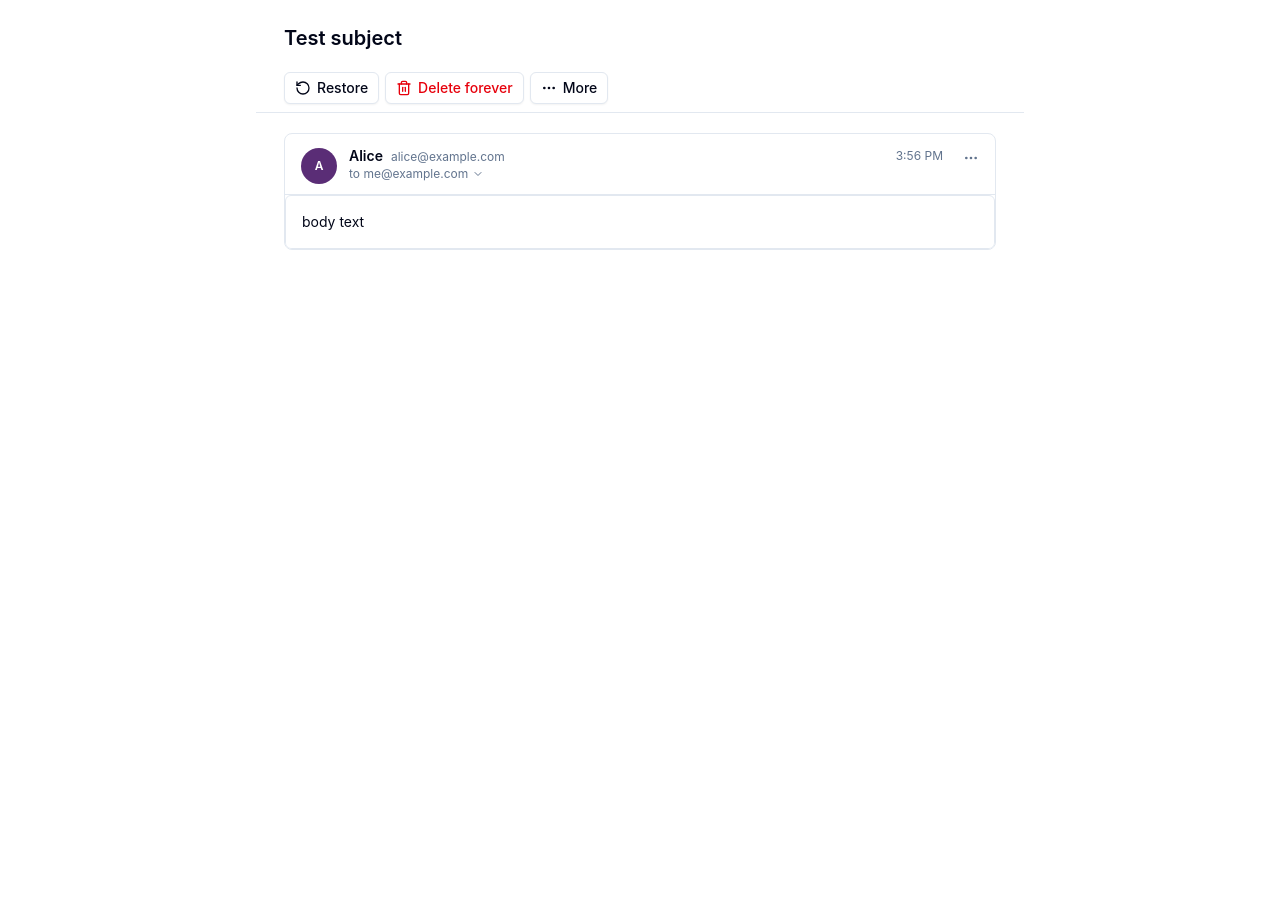
Test: Reader toolbar — trash view › Delete forever opens AlertDialog
Click the button "Delete forever" at (454, 88), box [385,72,524,104]
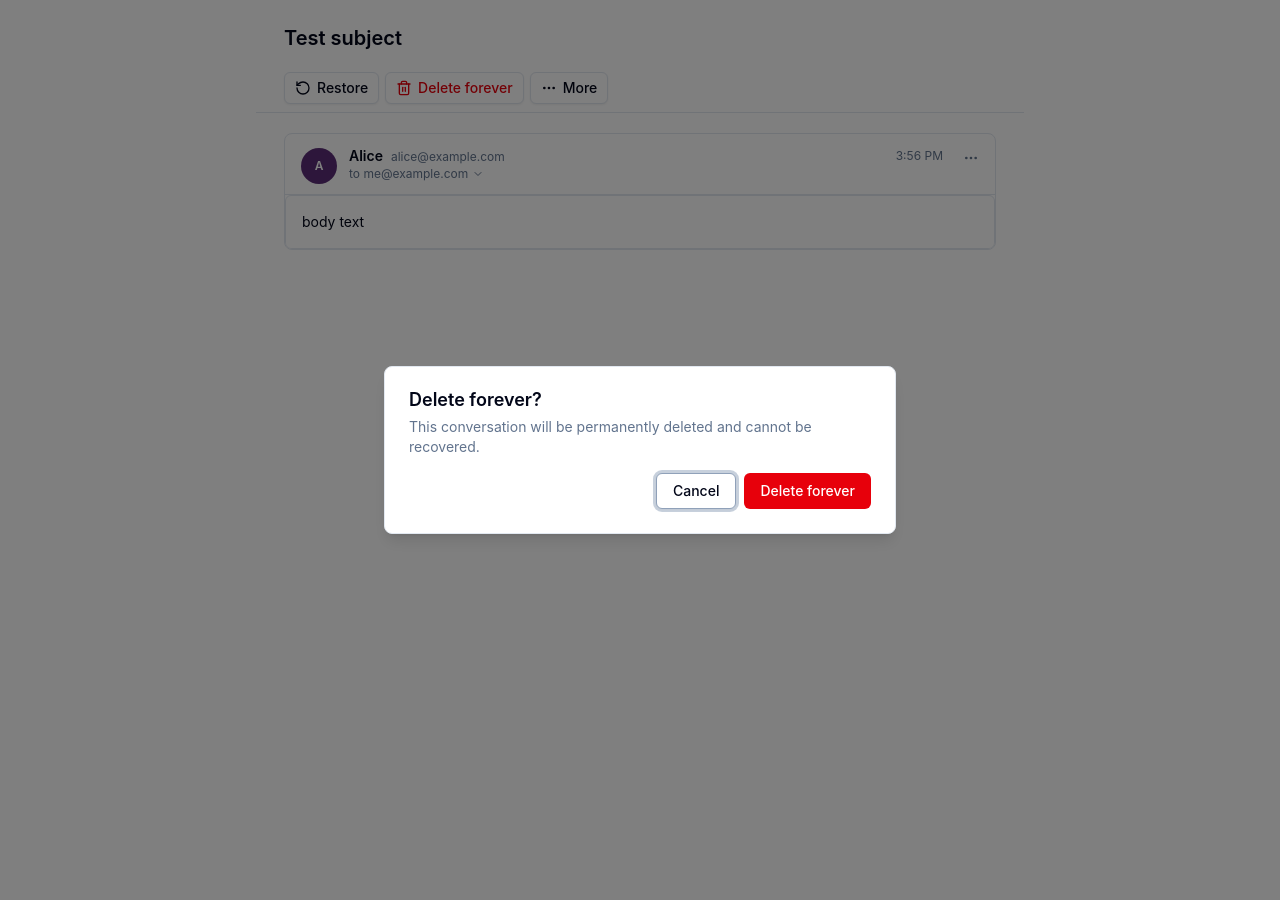
Result: the dialog is shown at [384,366,896,534]
Result: the heading "Delete forever?" is shown at [409,389,542,410]
